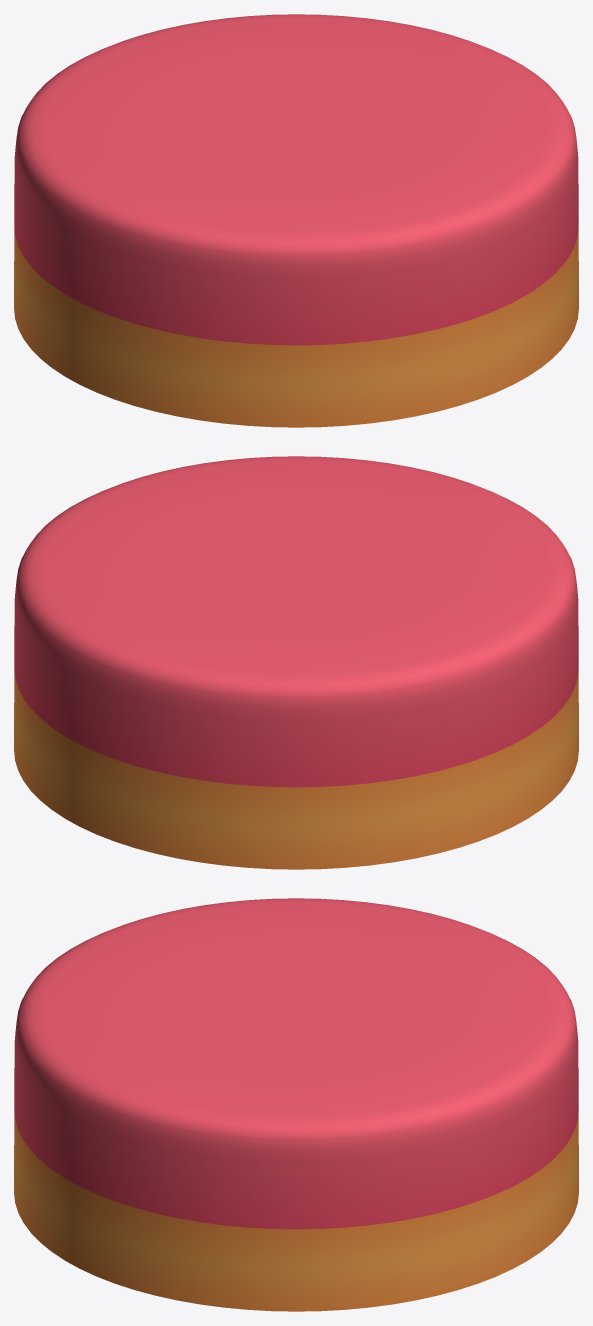
File: cake07.FBX
The picture shows the model from 3 angles, top to bottom: view 1: azimuth 30°, elevation 25°; view 2: azimuth 150°, elevation 25°; view 3: azimuth 270°, elevation 25°; orthographic projection.
Visible parts, largest first — view 1: cake07; view 2: cake07; view 3: cake07.
Part boxes in pixels (box(x1,y1,x2,y2)): cake07: box(14, 14, 578, 427); cake07: box(14, 456, 578, 869); cake07: box(14, 898, 578, 1311).
Bounding box in the file's own units: 0.0193 × 0.00693 × 0.0193.
